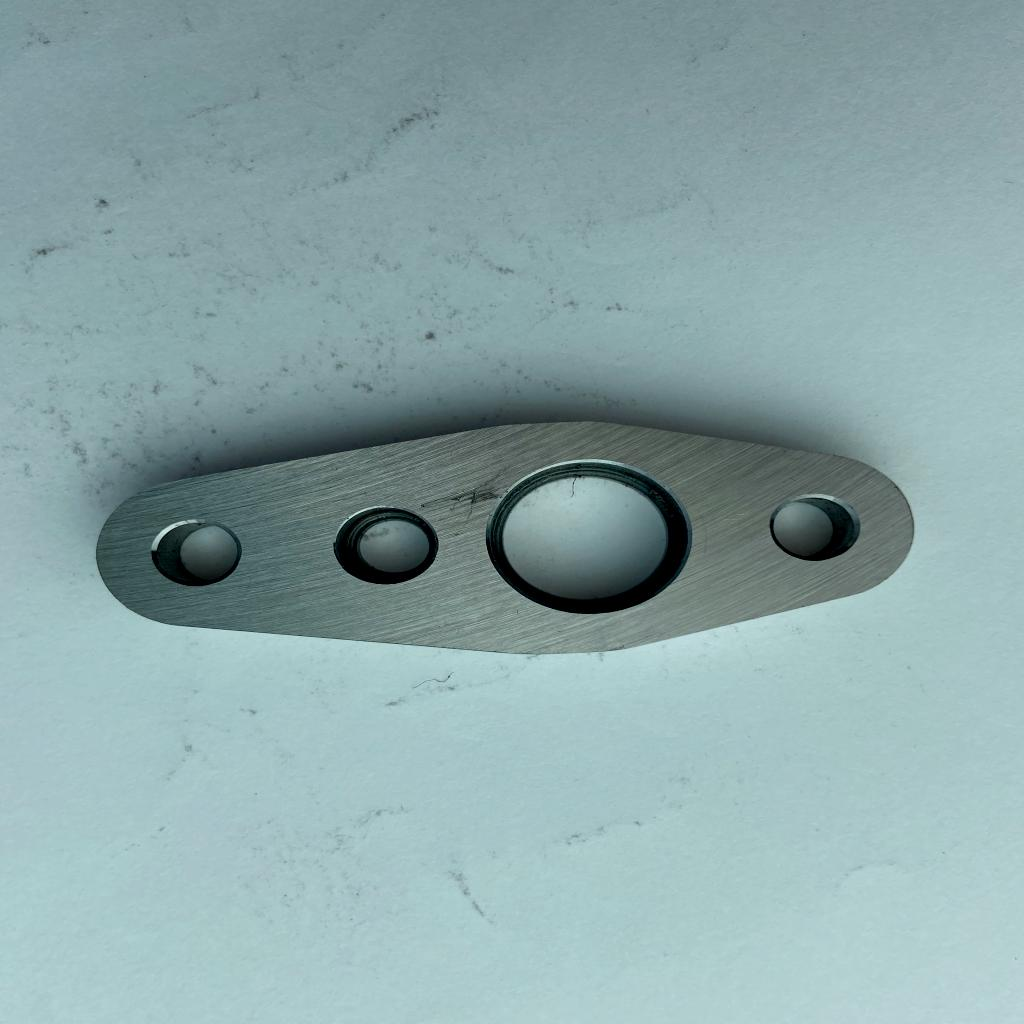lines: (434, 474, 495, 505)
